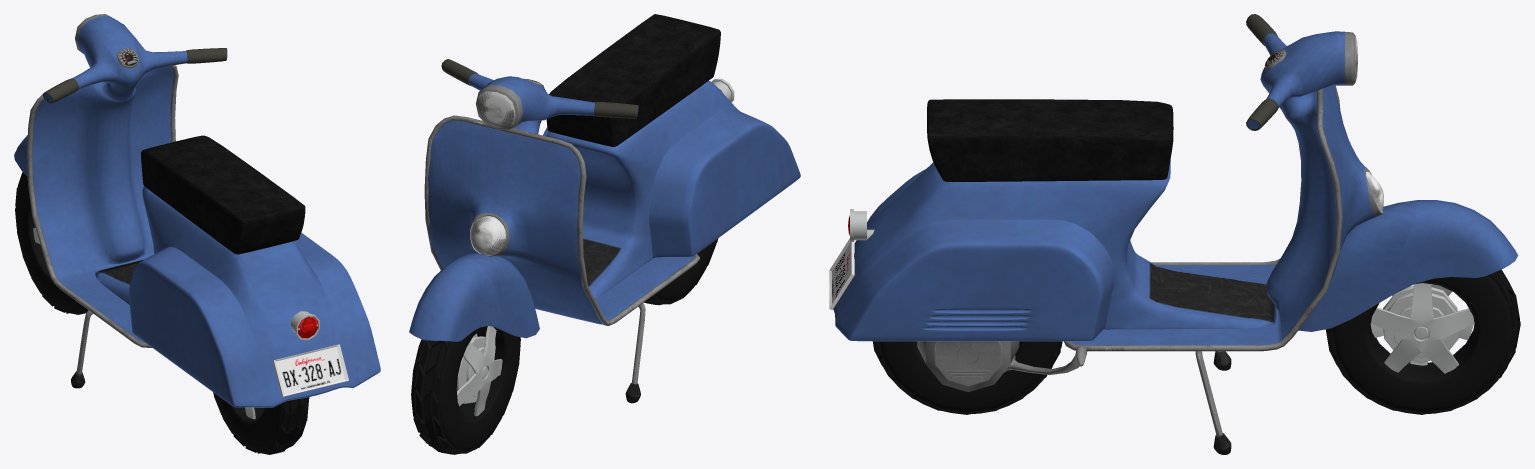
Rendered from vespa_scooter.glb.
The picture shows the model from 3 angles, left to right: view 1: azimuth 30°, elevation 25°; view 2: azimuth 150°, elevation 25°; view 3: azimuth 270°, elevation 25°; orthographic projection. The views are drawn at different scales.
Parts seen in each view (by area): view 1: body_back1, body_front1, sit_leather, back_weel, front_weel, plate, metal_outline, back_light, support_vespa; view 2: body_front1, body_back1, sit_leather, front_weel, weels_protection, metal_outline, front_rims_left, back_weel, support_vespa, brake_left_front; view 3: body_back1, body_front1, sit_leather, weels_protection, front_weel, back_weel, front_rims_right, engine, metal_outline, brake_right_front, support_vespa, plate (+1 smaller).
Boxes of the visible parts, x1,y1,x2,y2 form: body_back1: (95, 186, 380, 407); body_front1: (32, 14, 227, 342); sit_leather: (141, 135, 305, 254); back_weel: (213, 392, 309, 454); front_weel: (15, 172, 88, 314); plate: (272, 344, 348, 396); metal_outline: (27, 65, 178, 347); back_light: (291, 311, 319, 340); support_vespa: (71, 310, 93, 388); body_front1: (428, 59, 694, 324); body_back1: (543, 80, 800, 299); sit_leather: (546, 14, 720, 146); front_weel: (411, 326, 520, 454); weels_protection: (409, 253, 539, 341); metal_outline: (424, 115, 700, 325); front_rims_left: (457, 326, 502, 416); back_weel: (644, 238, 718, 305); support_vespa: (625, 303, 645, 403); brake_left_front: (456, 336, 487, 403); body_back1: (833, 160, 1276, 341); body_front1: (1070, 14, 1383, 345); sit_leather: (927, 99, 1173, 181); weels_protection: (1298, 200, 1518, 331); front_weel: (1325, 269, 1520, 414); back_weel: (872, 341, 1062, 414); front_rims_right: (1371, 283, 1474, 373); engine: (917, 341, 1019, 392); metal_outline: (1064, 85, 1342, 351); brake_right_front: (1384, 292, 1458, 363); support_vespa: (1195, 351, 1231, 454); plate: (829, 238, 854, 309).
Size of the model in its own units: 0.0783 by 0.1194 by 0.1987.
4 materials, 4 textured.
